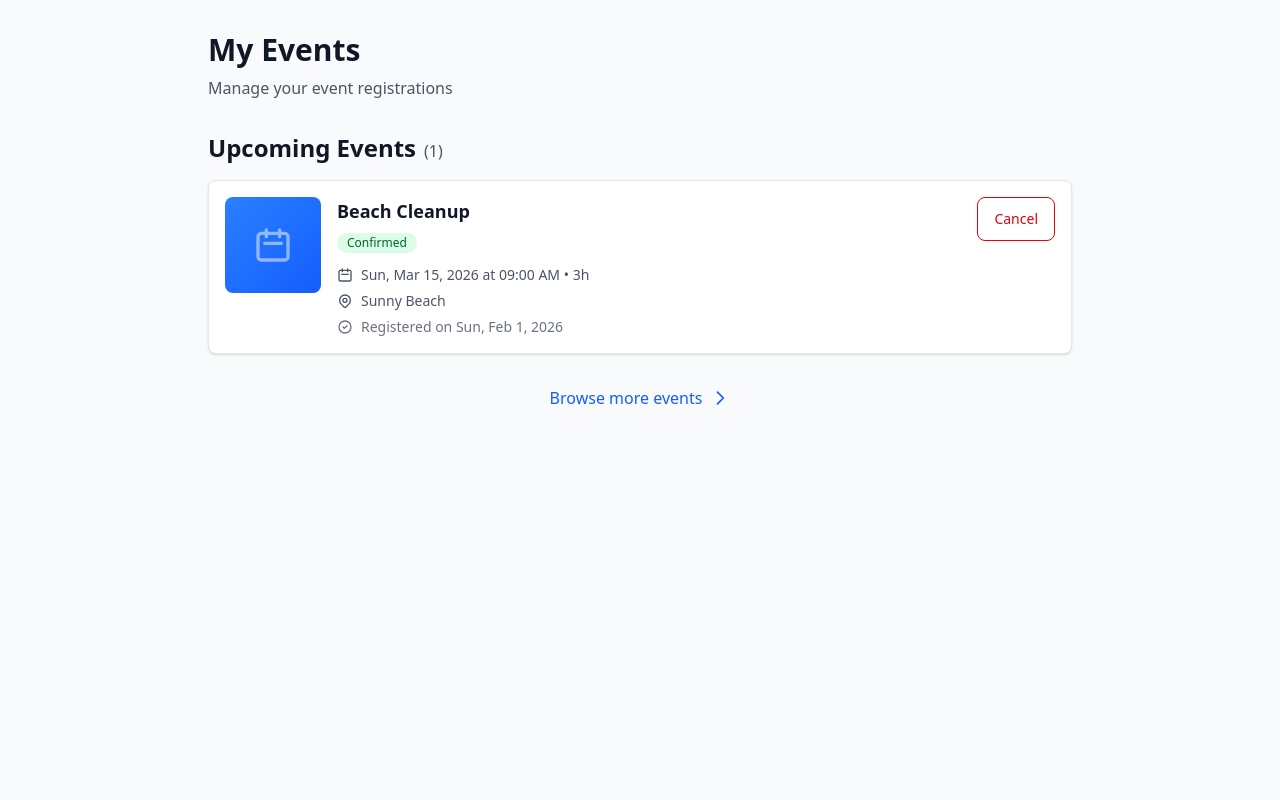
MyEventsPage › opens cancel modal when cancel button is clicked
The image size is (1280, 800).
Check: the link "Beach Cleanup" is shown, box [337,199,470,223]
Click the button "Cancel".
click(1016, 219)  # box [977,197,1055,241]
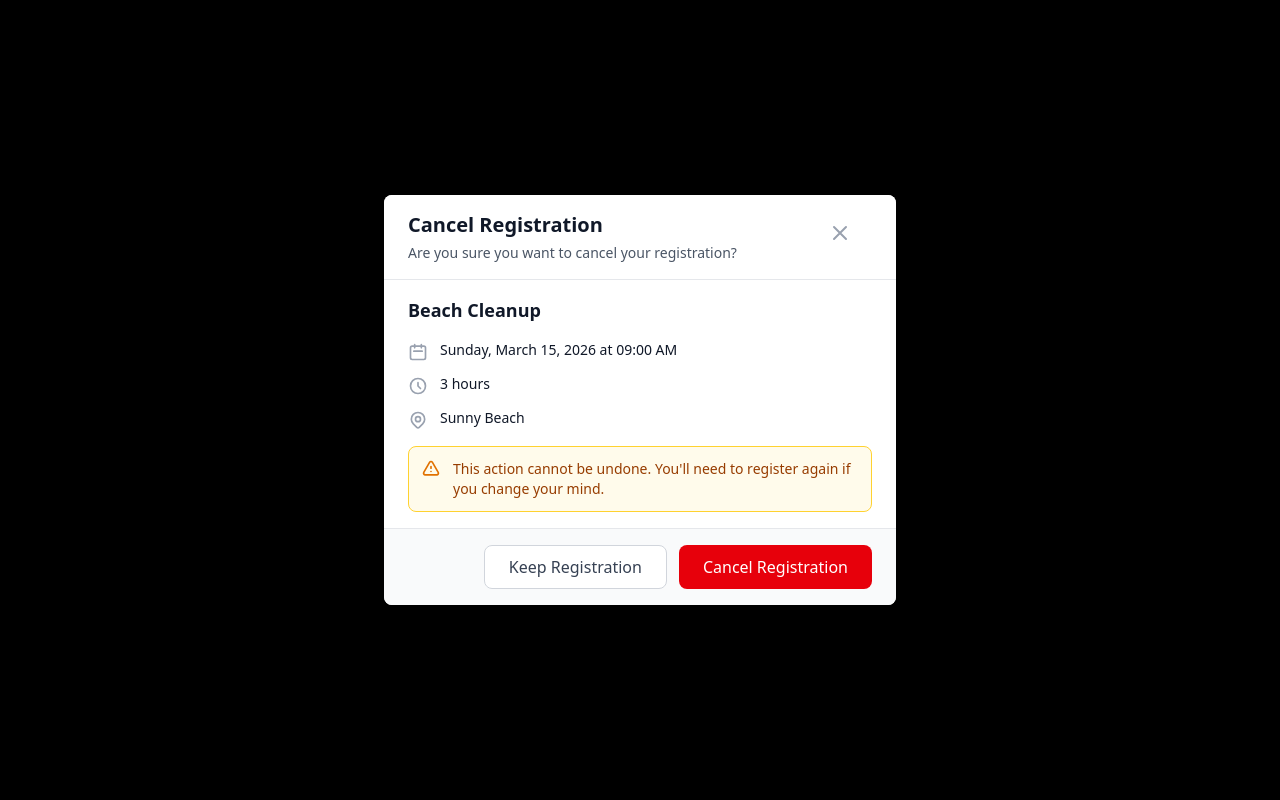
Check: the heading "Cancel Registration" is shown, box [408,211,603,238]
